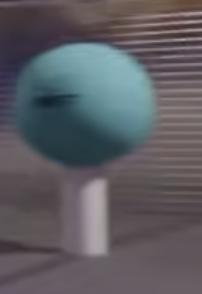algae: (13, 43, 157, 169)
coral: (63, 161, 108, 258)
